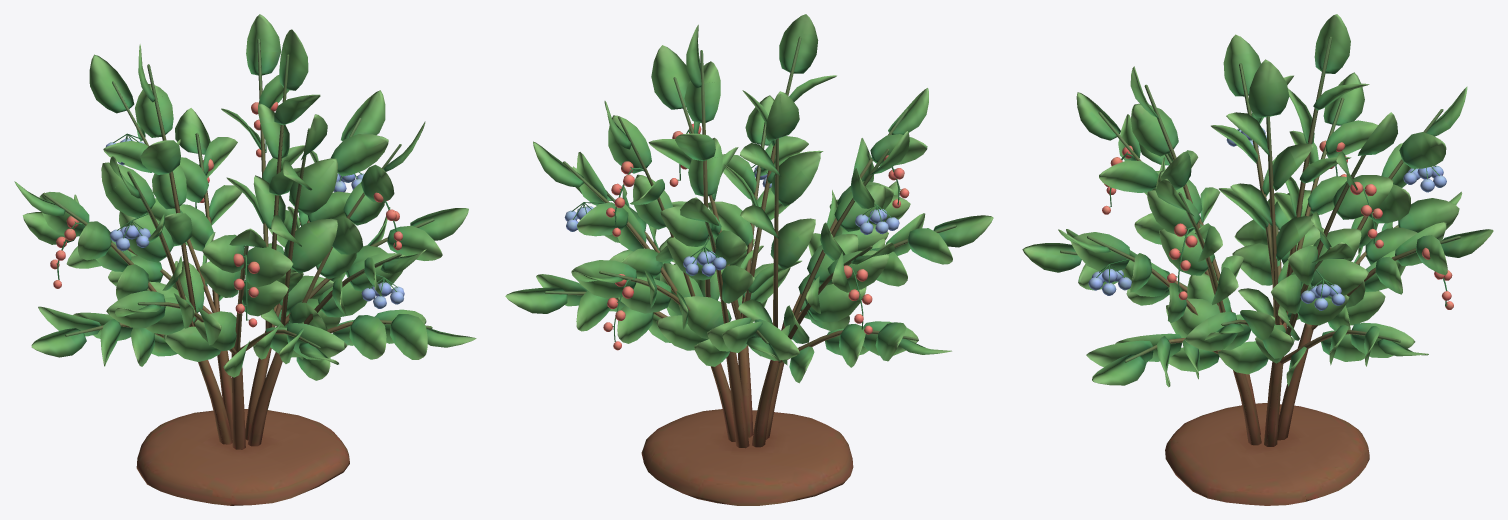
Rendered from arbusto_bayas.glb.
3 renders of one model, left to right at view 1: azimuth 30°, elevation 25°; view 2: azimuth 150°, elevation 25°; view 3: azimuth 270°, elevation 25°, orthographic.
Visible parts, largest first — view 1: berry-bush_body; view 2: berry-bush_body; view 3: berry-bush_body.
Part boxes in pixels (<box>): berry-bush_body: <box>14,14,476,505</box>; berry-bush_body: <box>505,14,993,505</box>; berry-bush_body: <box>1022,14,1493,505</box>.
Bounding box in the file's own units: 0.8822 × 0.8711 × 0.8763.
1 material, 1 textured.
